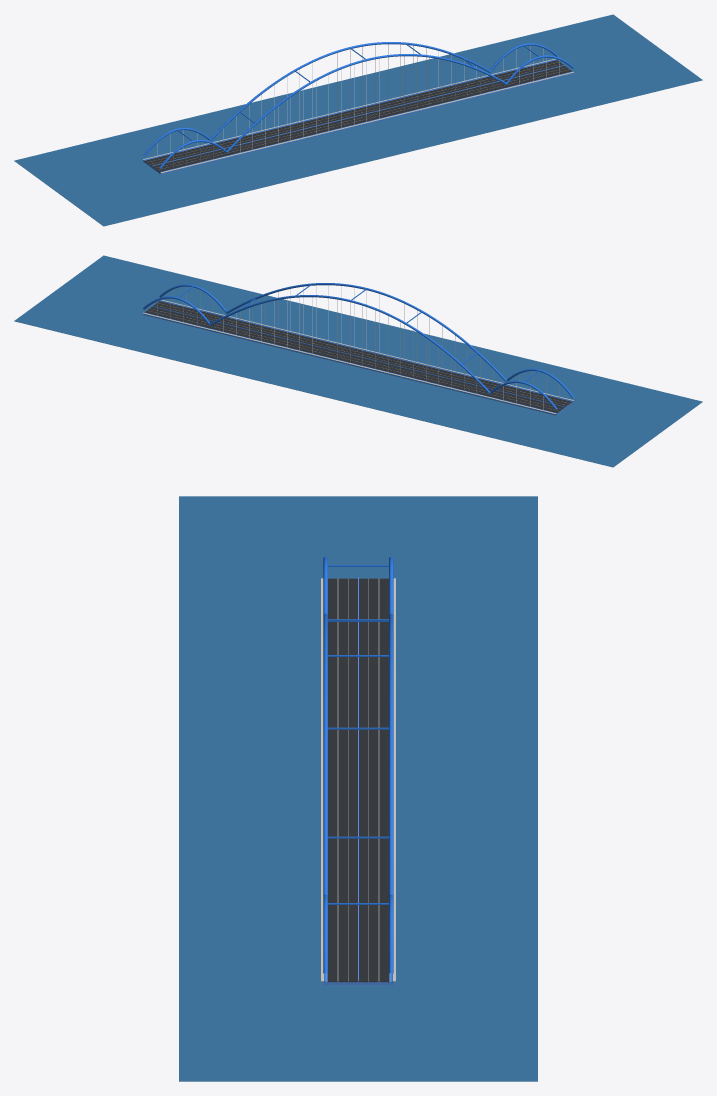
File: hankou-changfeng-bridge.glb
The picture shows the model from 3 angles, top to bottom: view 1: azimuth 30°, elevation 25°; view 2: azimuth 150°, elevation 25°; view 3: azimuth 270°, elevation 25°; orthographic projection. The views are drawn at different scales.
Visible parts, largest first — view 1: River-Surface, Road-Surface, Arch-Rib-North, Deck-Girder, Arch-Rib-South, Tie-Girder-North, Walkway-North, Center-Barrier, Walkway-South, Tie-Girder-South; view 2: River-Surface, Road-Surface, Deck-Girder, Arch-Rib-South, Arch-Rib-North, Walkway-South, Tie-Girder-South, Center-Barrier, Walkway-North, Tie-Girder-North; view 3: River-Surface, Road-Surface, Arch-Rib-South, Arch-Rib-North, Walkway-South, Walkway-North.
Part boxes in pixels (x1=…): River-Surface: x1=14, y1=14, x2=702, y2=226; Road-Surface: x1=144, y1=60, x2=572, y2=171; Arch-Rib-North: x1=159, y1=54, x2=573, y2=168; Deck-Girder: x1=143, y1=60, x2=573, y2=174; Arch-Rib-South: x1=143, y1=42, x2=557, y2=156; Tie-Girder-North: x1=160, y1=71, x2=573, y2=174; Walkway-North: x1=160, y1=71, x2=573, y2=173; Center-Barrier: x1=152, y1=65, x2=564, y2=166; Walkway-South: x1=143, y1=58, x2=555, y2=159; Tie-Girder-South: x1=143, y1=59, x2=556, y2=161; River-Surface: x1=14, y1=255, x2=702, y2=467; Road-Surface: x1=144, y1=301, x2=572, y2=412; Deck-Girder: x1=143, y1=301, x2=573, y2=415; Arch-Rib-South: x1=143, y1=295, x2=557, y2=409; Arch-Rib-North: x1=159, y1=283, x2=573, y2=397; Walkway-South: x1=143, y1=312, x2=556, y2=414; Tie-Girder-South: x1=143, y1=312, x2=556, y2=415; Center-Barrier: x1=152, y1=306, x2=564, y2=407; Walkway-North: x1=161, y1=299, x2=573, y2=400; Tie-Girder-North: x1=160, y1=300, x2=573, y2=402; River-Surface: x1=179, y1=496, x2=537, y2=1081; Road-Surface: x1=327, y1=578, x2=389, y2=982; Arch-Rib-South: x1=389, y1=556, x2=393, y2=973; Arch-Rib-North: x1=323, y1=556, x2=327, y2=973; Walkway-South: x1=393, y1=578, x2=395, y2=981; Walkway-North: x1=321, y1=578, x2=323, y2=981.
Size of what is drawn, in the model's own units: 540 by 58.2 by 140.
